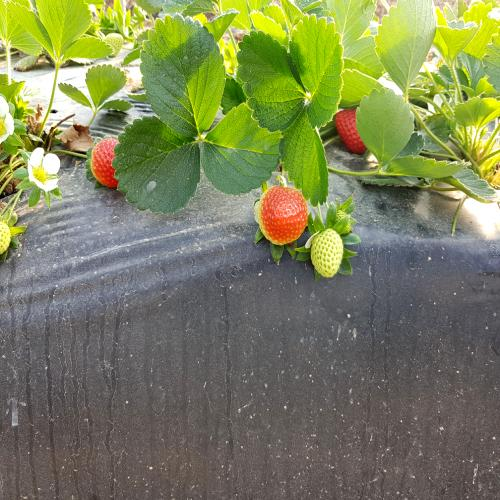ripe: (255, 174, 308, 262), (335, 98, 370, 162), (91, 138, 133, 186)
